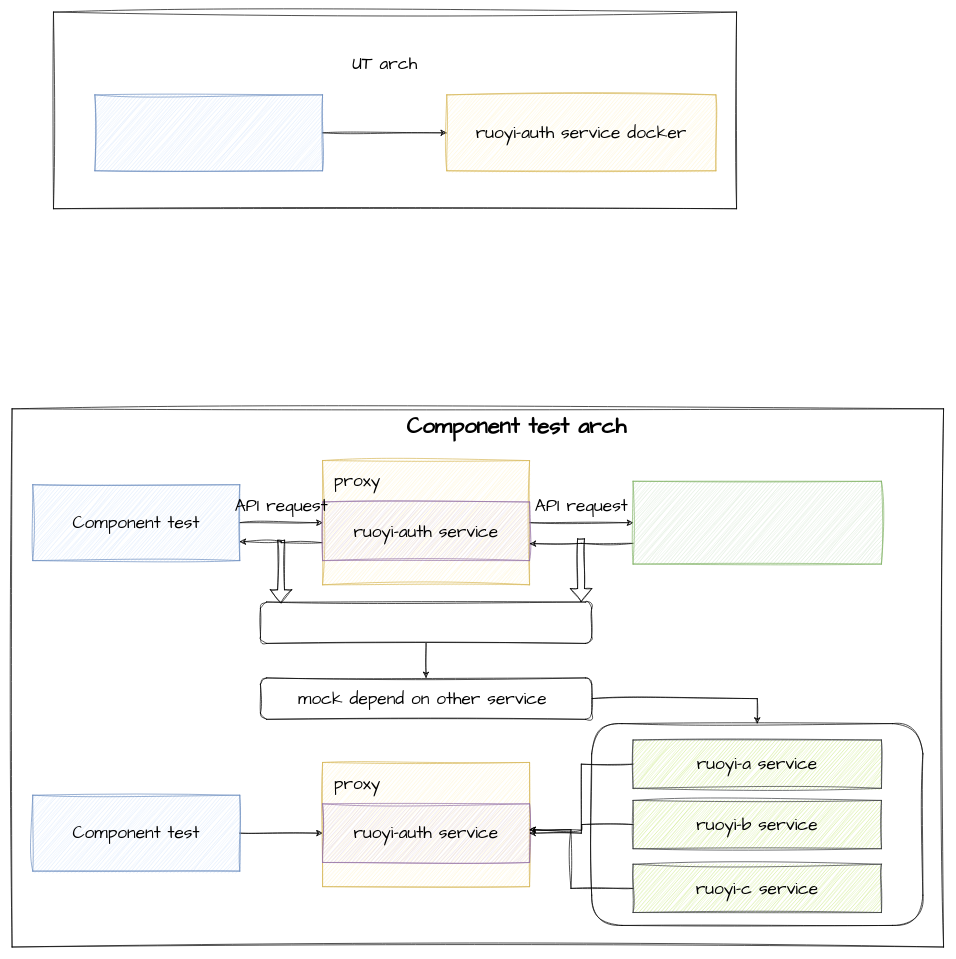
This 956x959 diagram has some shape labels left out. Each missing label, with the centre of its shape:
collect all request file: point (426, 622)
ruoyi system all service: point (756, 522)
unit test docker: point (208, 132)
